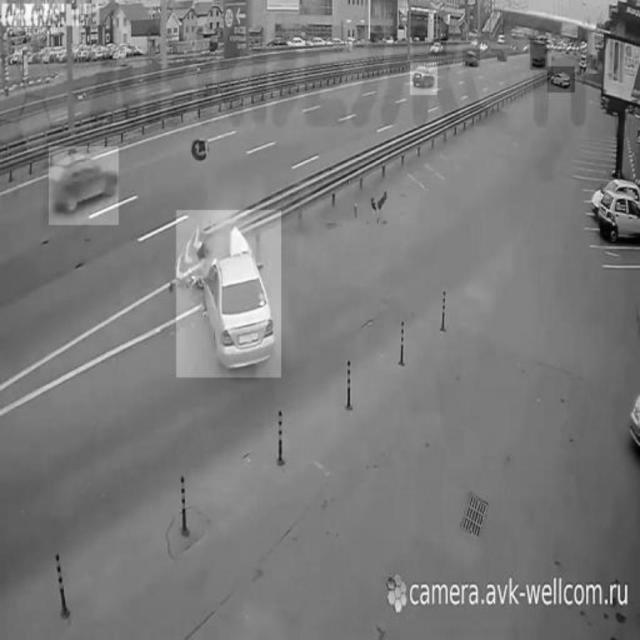accident: (177, 210, 281, 377)
vehicle: (49, 147, 119, 225), (600, 184, 640, 245), (411, 63, 438, 95), (548, 67, 575, 93), (531, 39, 548, 69), (463, 47, 480, 67), (430, 39, 447, 56)
